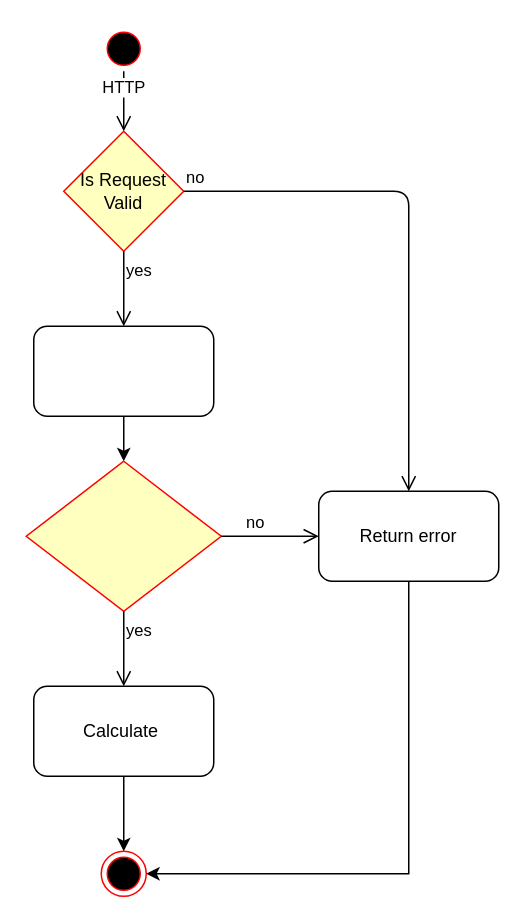
This 525x923 diagram has some shape labels left out. The centre of each missing label's shape, as x and y in pixels:
"Get exchange rate" belongs at pixel 123 370.
"Is Exchange rate available" belongs at pixel 123 535.
